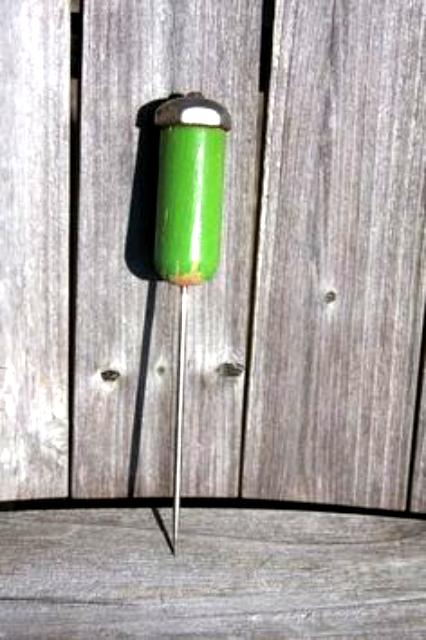ice pick: (154, 92, 232, 560)
